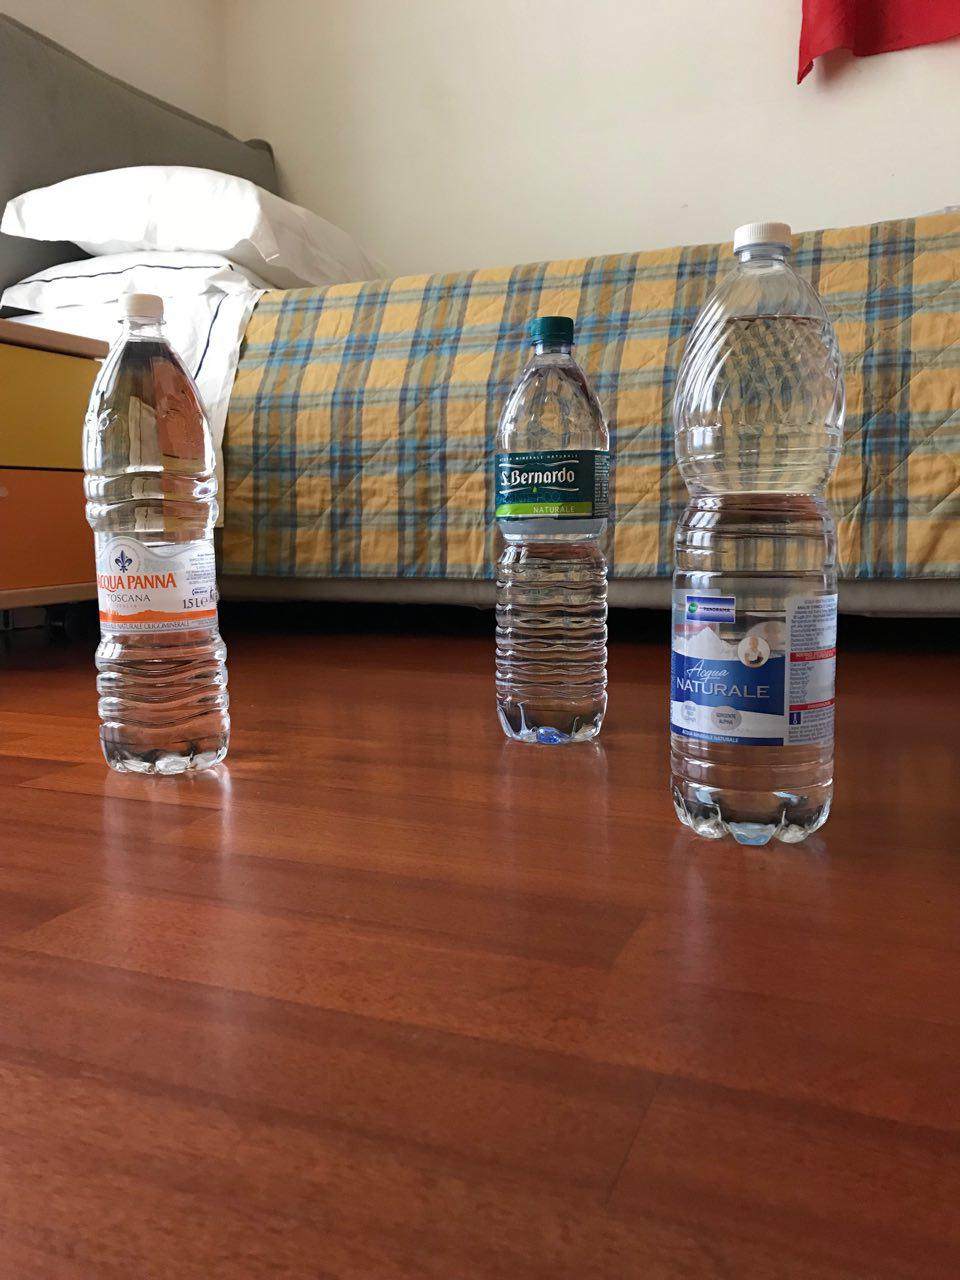san_bernardo: (494, 314, 610, 745)
